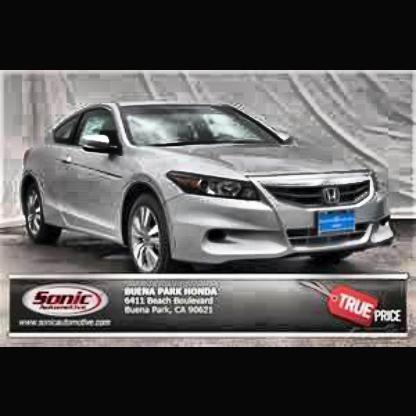Honda Accord Coupe 2012: (17, 100, 395, 267)
